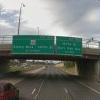Bridge: (5, 25, 100, 67)
